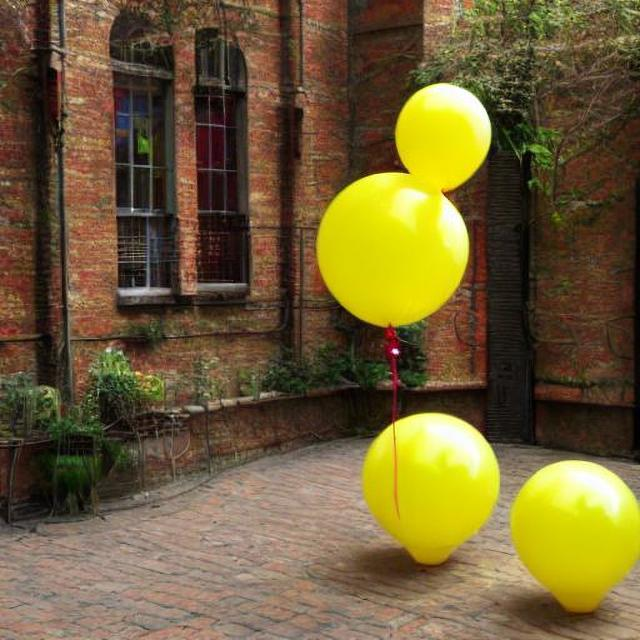balloon: (312, 85, 509, 400), (338, 404, 500, 586), (497, 456, 637, 622)
